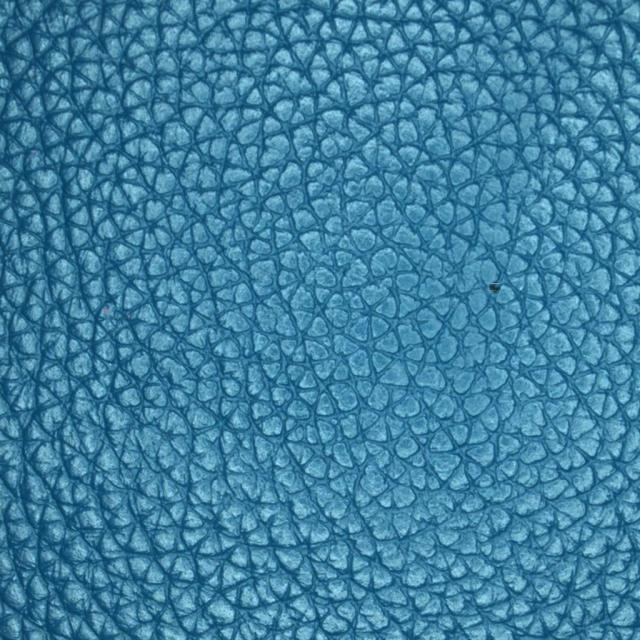pinhole: (431, 212, 567, 368)
